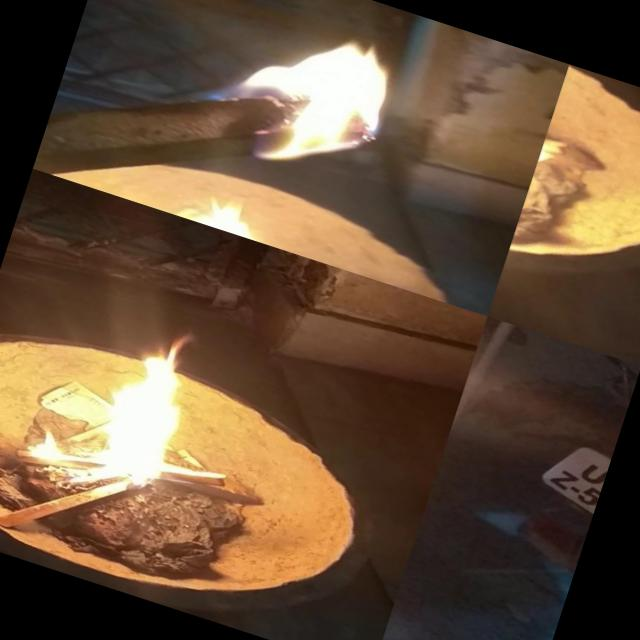fire: (189, 0, 440, 207), (7, 318, 205, 526), (120, 170, 320, 259)
